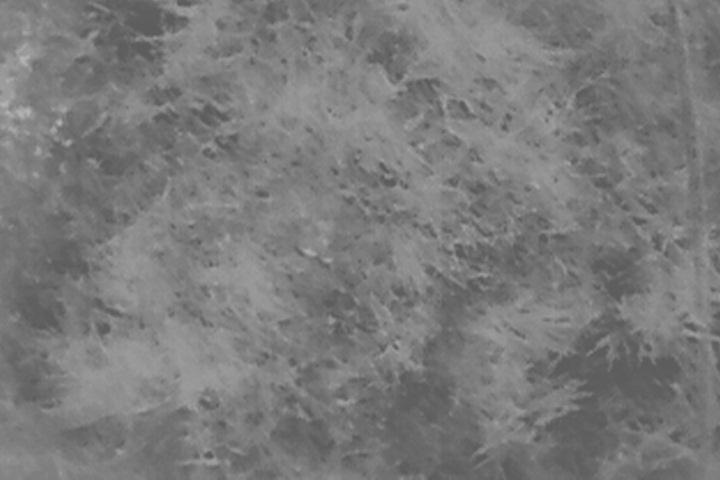landmine: (288, 135, 352, 265)
